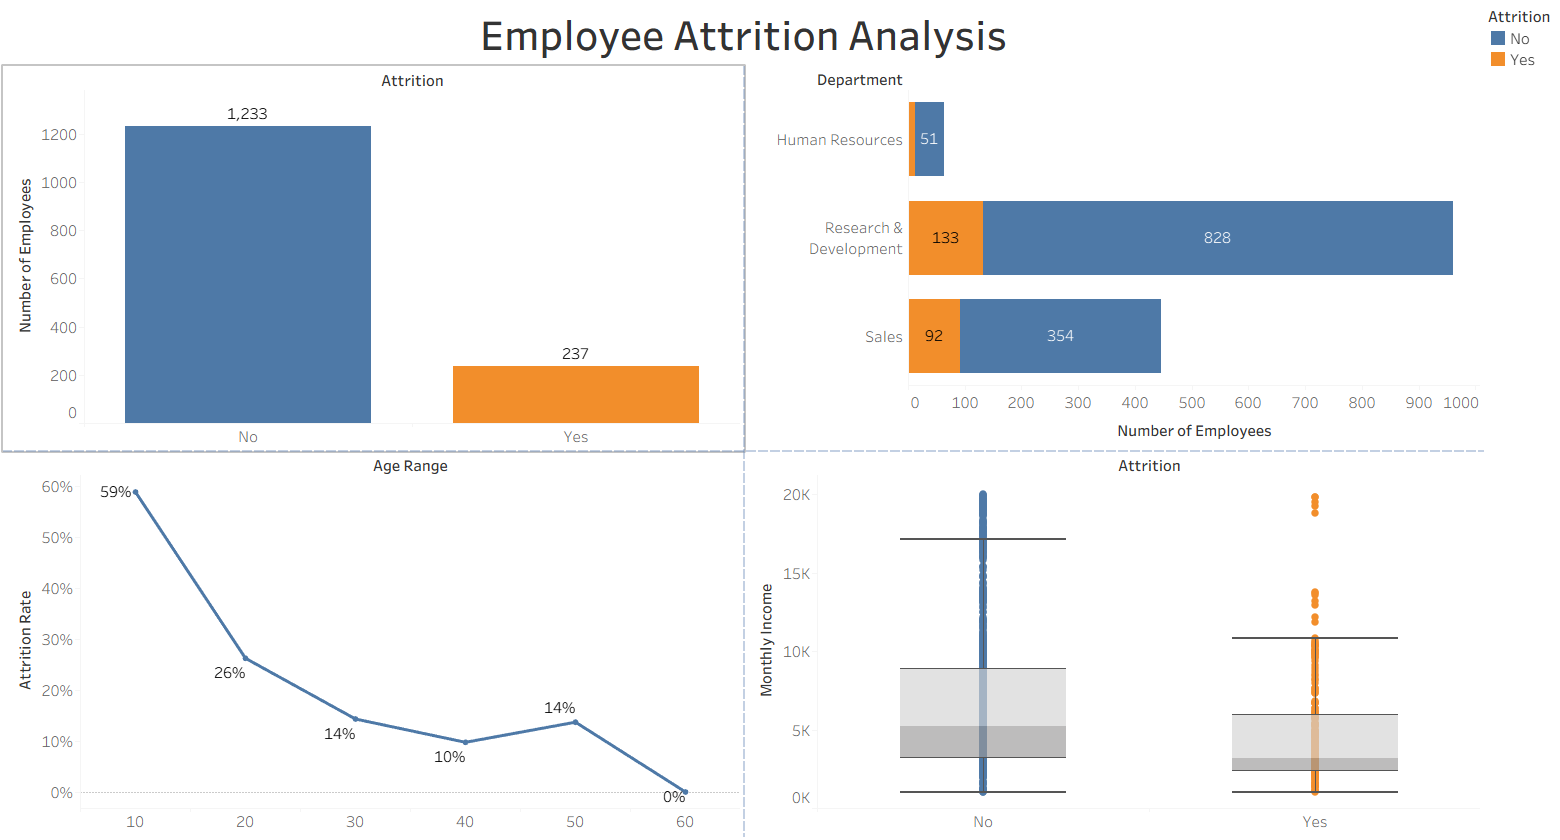

The page's visual inventory and layout, read from the dashboard file:
{"tool":"tableau","page":{"name":"Employee Attrition Analysis","canvas":[1000,1000],"units":"permille","ordinal":0},"visuals":[{"type":"title","box":[4.8,9.4,893.8,75.2]},{"type":"legend","title":"Attrition Overview","param":"[federated.00fvd9007uqkzc170gmoz1v7a4yk].[none:Attrition:nk]","box":[898.6,9.4,96.6,84.6]},{"type":"worksheet","title":"Attrition Overview","mark":"Automatic","rows":["Age"],"cols":["Attrition"],"box":[4.8,84.6,446.9,453]},{"type":"worksheet","title":"Attrition by Department","mark":"Automatic","rows":["Department"],"cols":["Age"],"box":[451.7,84.6,446.9,453]},{"type":"worksheet","title":"Attrition by Age group","mark":"Line","rows":["Calculation_0630873849712640"],"cols":["Age (bin)"],"box":[4.8,537.6,446.9,453]},{"type":"worksheet","title":"Income Vs Attrition","mark":"Circle","rows":["MonthlyIncome"],"cols":["Attrition"],"box":[451.7,537.6,446.9,453]}]}

Visuals, with their boxes on the dashboard's canvas, which has no fixed pixel size, in thousandths of its width and height (x1, y1, x2, y2). These are canvas units, not pixel positions in the 1560x840 screenshot, which may show the page scaled, cropped or inside an application window:
title: [5,9,899,85]
"Attrition Overview" legend: [899,9,995,94]
"Attrition Overview" worksheet: [5,85,452,538]
"Attrition by Department" worksheet: [452,85,899,538]
"Attrition by Age group" worksheet (Line marks): [5,538,452,991]
"Income Vs Attrition" worksheet (Circle marks): [452,538,899,991]
